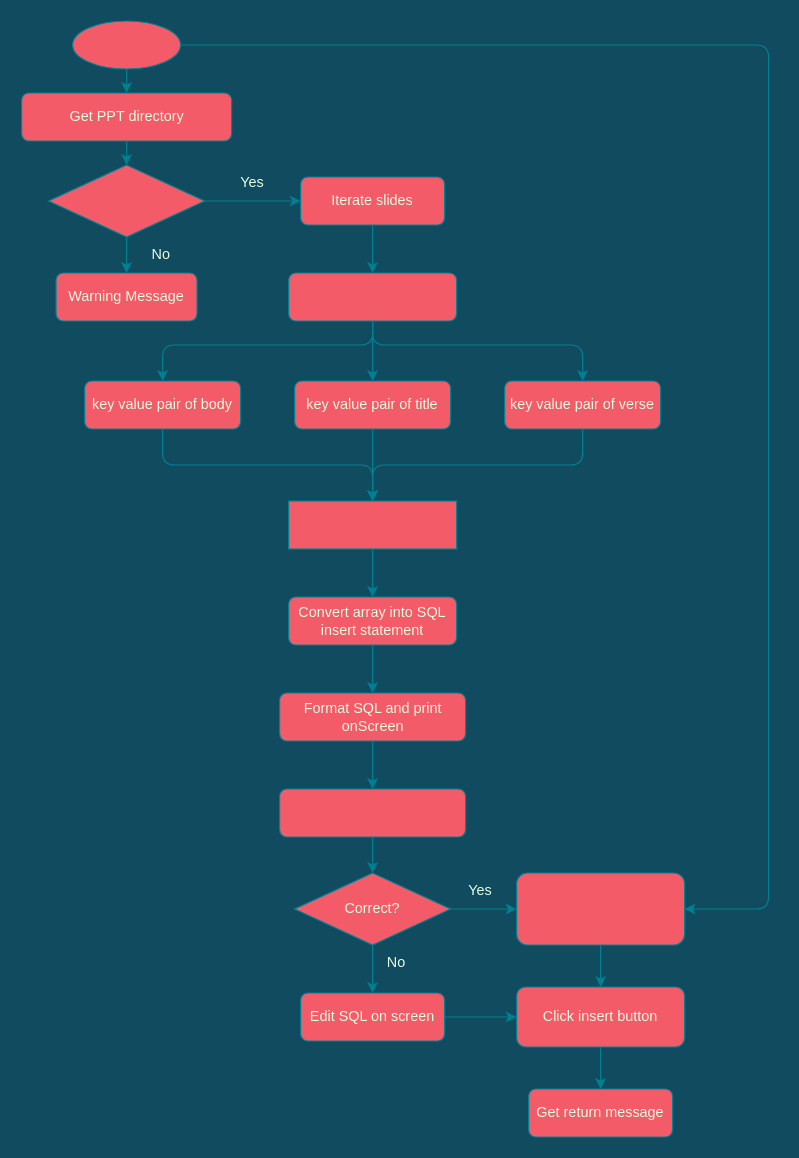
Image size: 799x1158. Some labels were removed from this diagram. The shapes that lost their labels are listed below. From the top down, each one's box as (x1, y1, x2, y2) in pixels, then its label:
(71, 20, 181, 69): Start
(47, 164, 205, 237): is ppt or pptx
(287, 272, 457, 321): Group with title and slides index
(287, 500, 457, 549): Into 1 array
(278, 788, 466, 837): Check SQL format
(515, 872, 685, 945): Get destination db file
